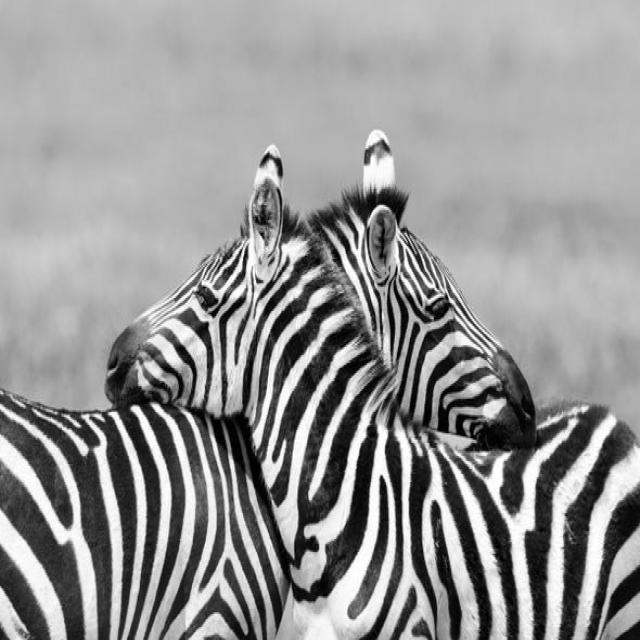Zebra: (0, 189, 536, 640), (100, 193, 640, 640)
